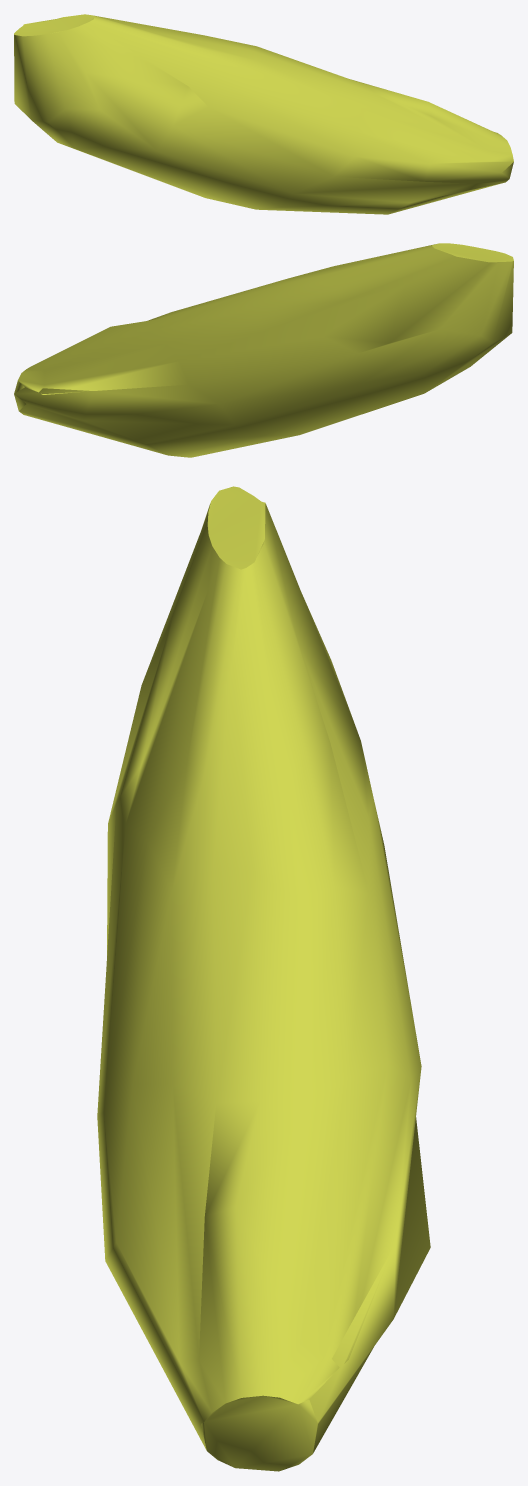
File: banana_model.obj
3 renders of one model, top to bottom at view 1: azimuth 30°, elevation 25°; view 2: azimuth 150°, elevation 25°; view 3: azimuth 270°, elevation 25°, orthographic. The views are drawn at different scales.
Parts seen in each view (by area): view 1: Cylinder001; view 2: Cylinder001; view 3: Cylinder001.
Boxes of the visible parts, bbox=[...] form: Cylinder001: bbox=[14, 14, 513, 214]; Cylinder001: bbox=[14, 243, 513, 457]; Cylinder001: bbox=[97, 486, 430, 1471].
Size of the model in its own units: 50.61 by 26.35 by 15.19.
